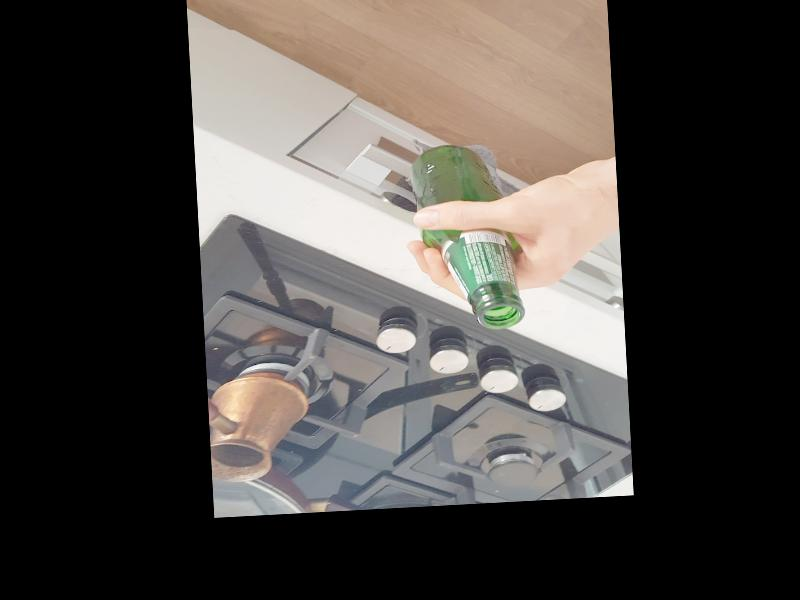Beer: (411, 141, 524, 333)
